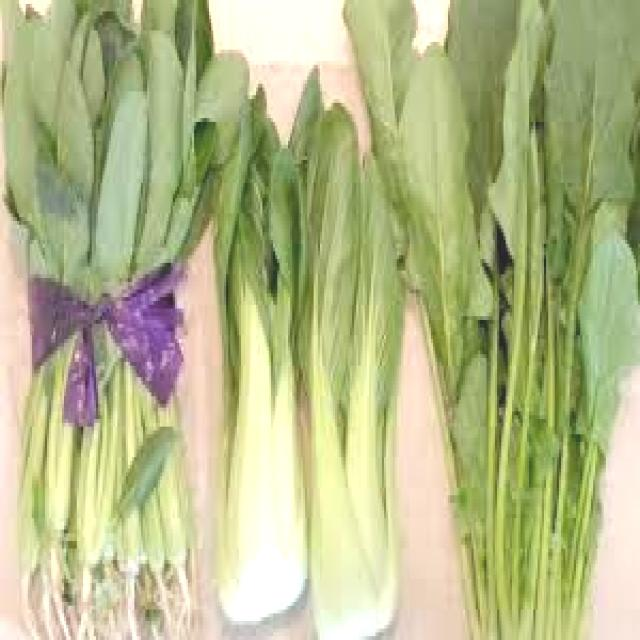organic: (212, 97, 398, 624)
